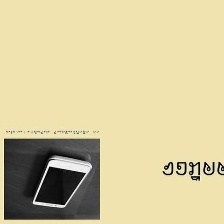phone: (28, 152, 93, 213)
